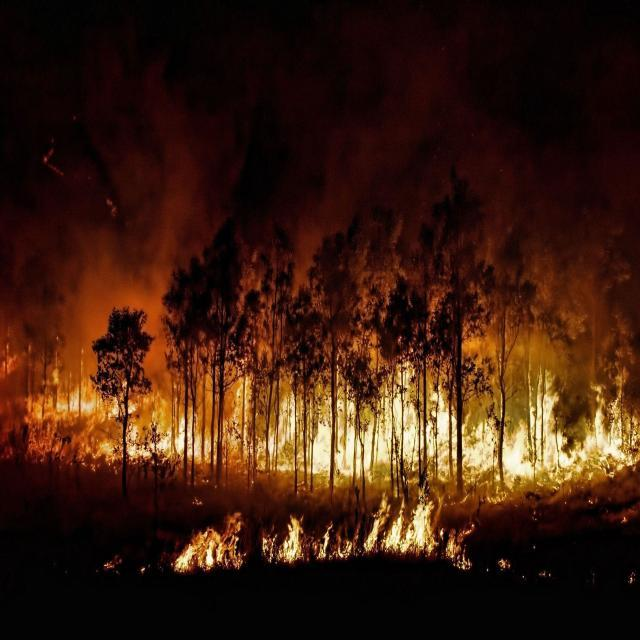Fire: (216, 377, 452, 490), (171, 498, 478, 576), (464, 384, 640, 492), (4, 374, 197, 468)
Smoke: (8, 76, 185, 357), (192, 68, 460, 242), (470, 126, 640, 358)
